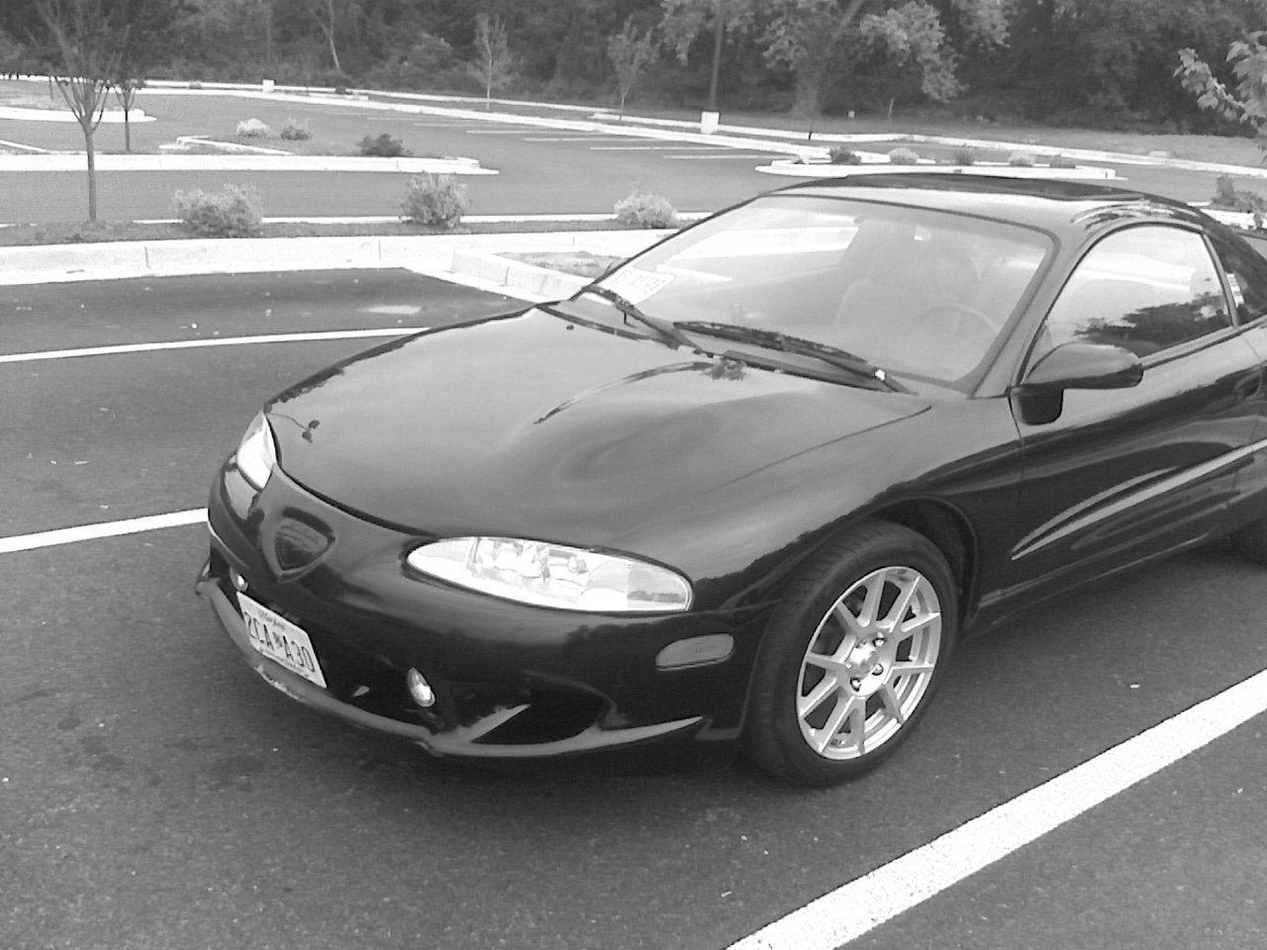car: (201, 189, 1265, 804)
